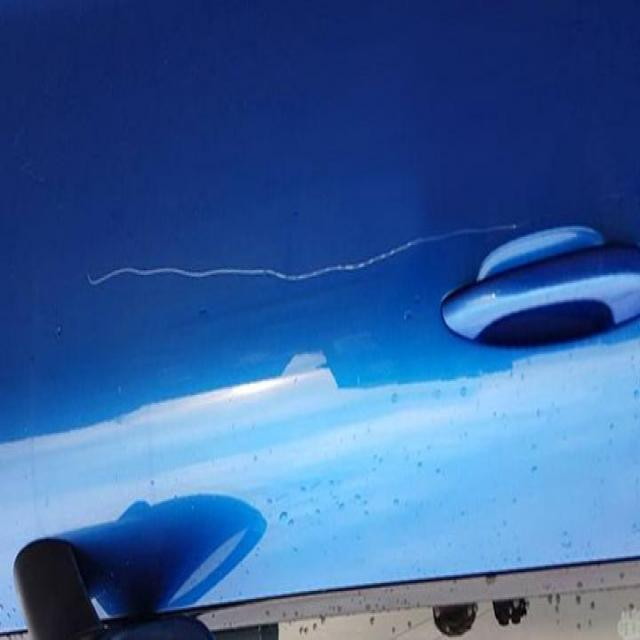scratch: (72, 199, 540, 330)
